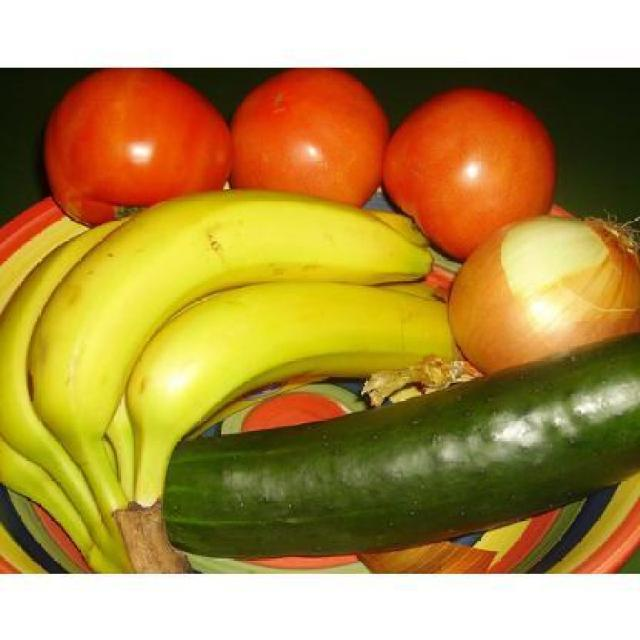cucumber: (160, 336, 634, 554)
